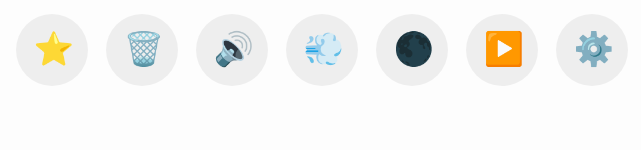
Scenario: DoodleCanvas › mute button toggles its label and tells the sound engine to mute
Click the button named "Mute" at [232, 50], box [196,14,268,86]
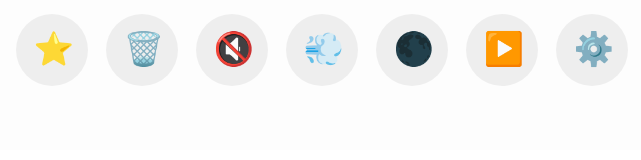
expect the button named "Unmute" is shown: met, box [196,14,268,86]
